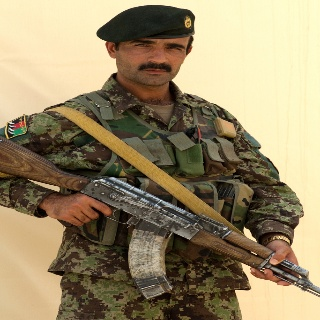rifle: (1, 133, 320, 305)
